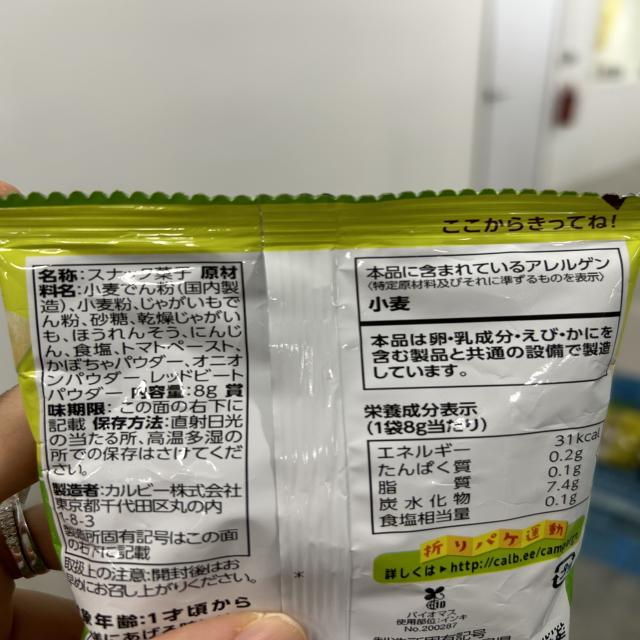object_name: (17, 205, 576, 640)
